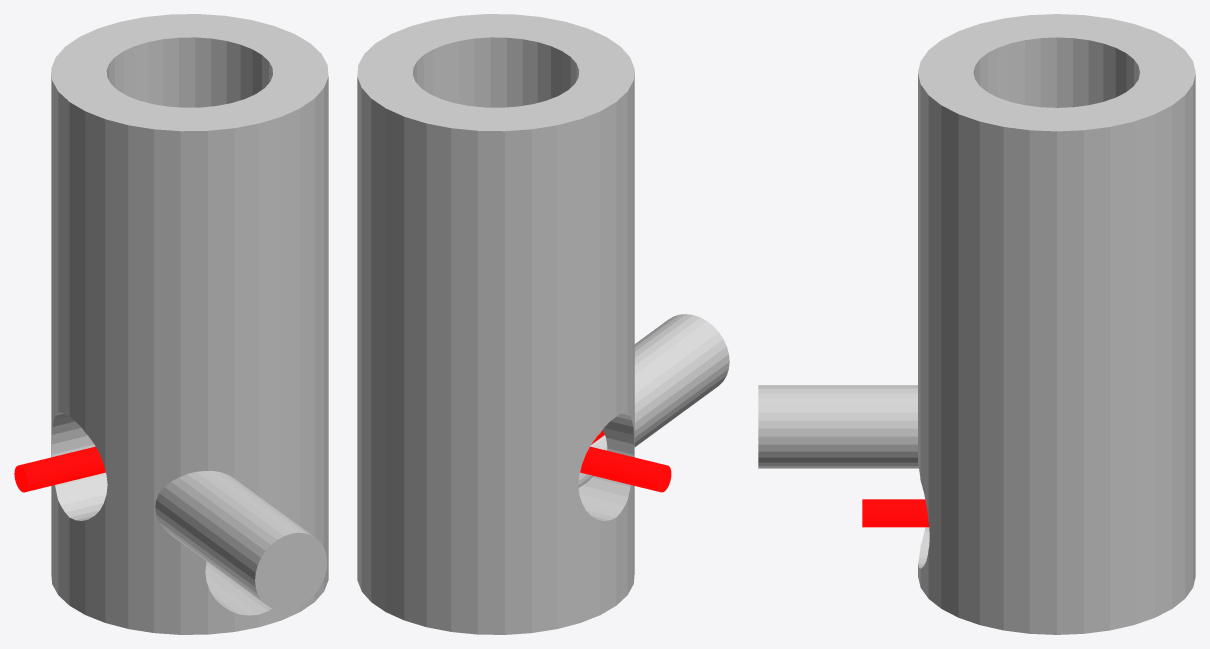
File: LOT130_6079f232.glb
3 renders of one model, left to right at view 1: azimuth 30°, elevation 25°; view 2: azimuth 150°, elevation 25°; view 3: azimuth 270°, elevation 25°, orthographic.
Visible parts, largest first — view 1: Cylinder, Cylinder.004; view 2: Cylinder, Cylinder.004; view 3: Cylinder, Cylinder.002.
Boxes of the visible parts, left/top/right/bottom form: Cylinder: left=51, top=14, right=328, bottom=634; Cylinder.004: left=14, top=446, right=105, bottom=492; Cylinder: left=357, top=14, right=729, bottom=634; Cylinder.004: left=580, top=446, right=671, bottom=492; Cylinder: left=758, top=14, right=1195, bottom=634; Cylinder.002: left=862, top=499, right=929, bottom=527.
Bounding box in the file's own units: 1.2 × 2 × 1.58.
